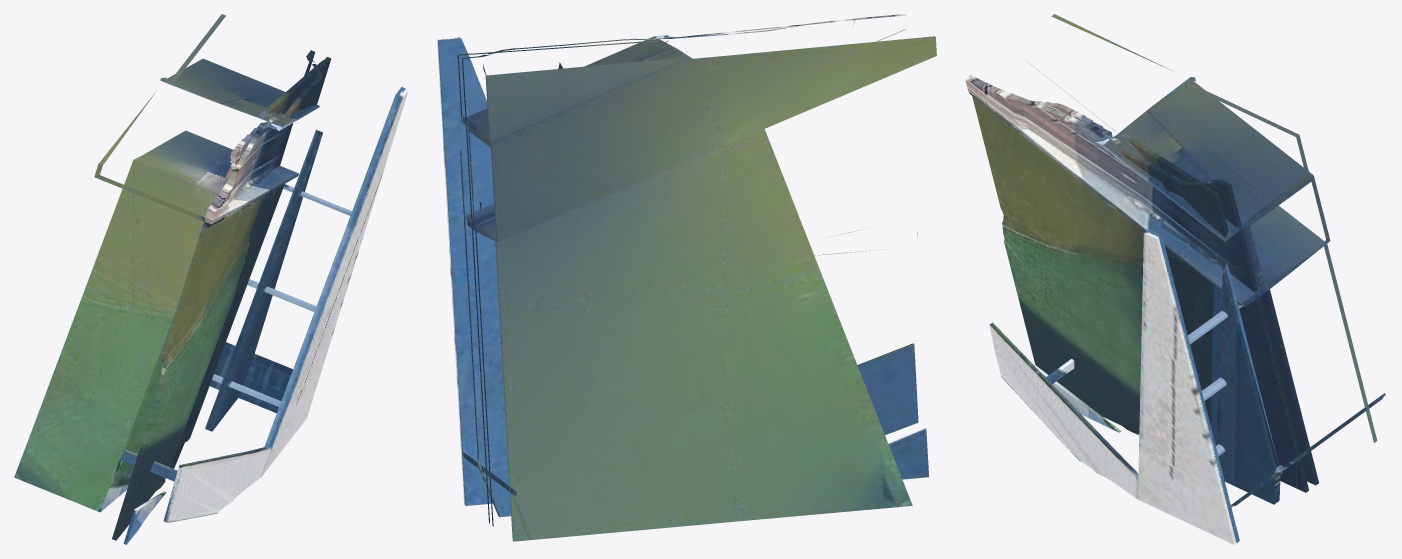
The model's file is congresso_tile_190.glb.
3 views of the same model, side by side, from view 1: azimuth 30°, elevation 25°; view 2: azimuth 150°, elevation 25°; view 3: azimuth 270°, elevation 25° (orthographic). The views are drawn at different scales.
Bounding box in the file's own units: 44.18 × 42.22 × 41.71.
Materials: 3 (3 with a texture image).
